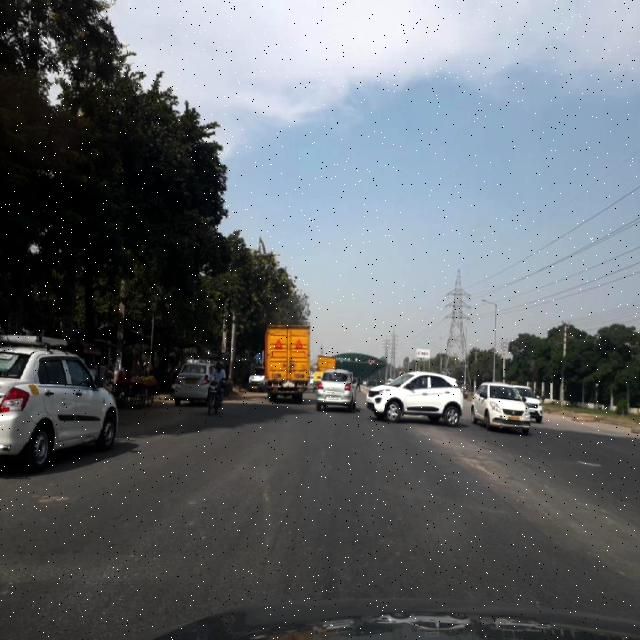D40: (449, 448, 510, 482)
